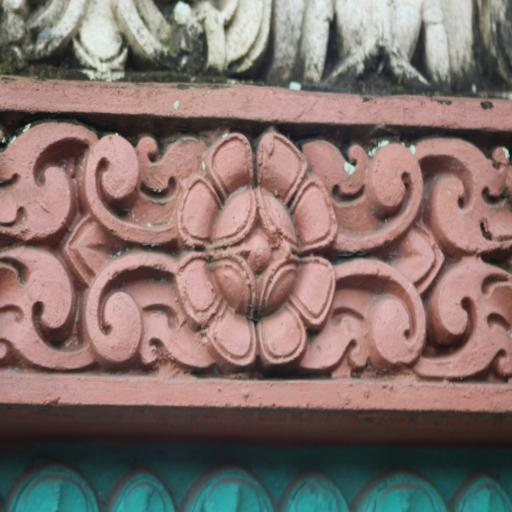hoa: (176, 130, 332, 368)
la: (331, 132, 512, 378), (0, 126, 174, 368)
